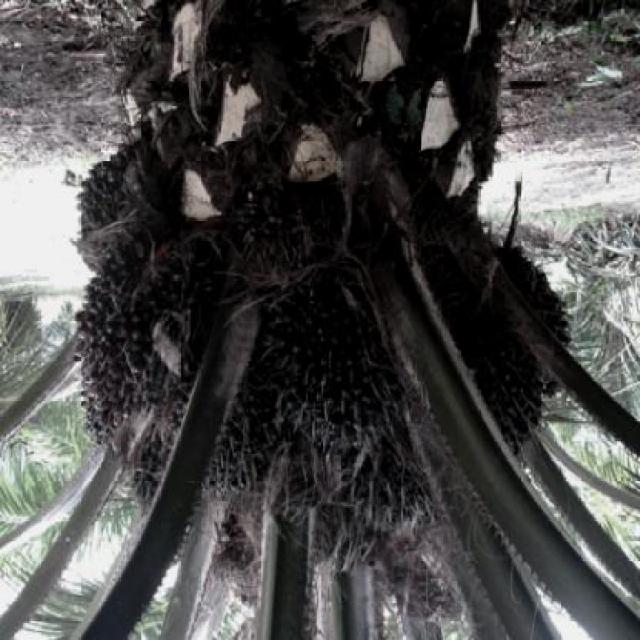palm-oil: (83, 218, 198, 438), (278, 259, 408, 438), (214, 370, 287, 514)
